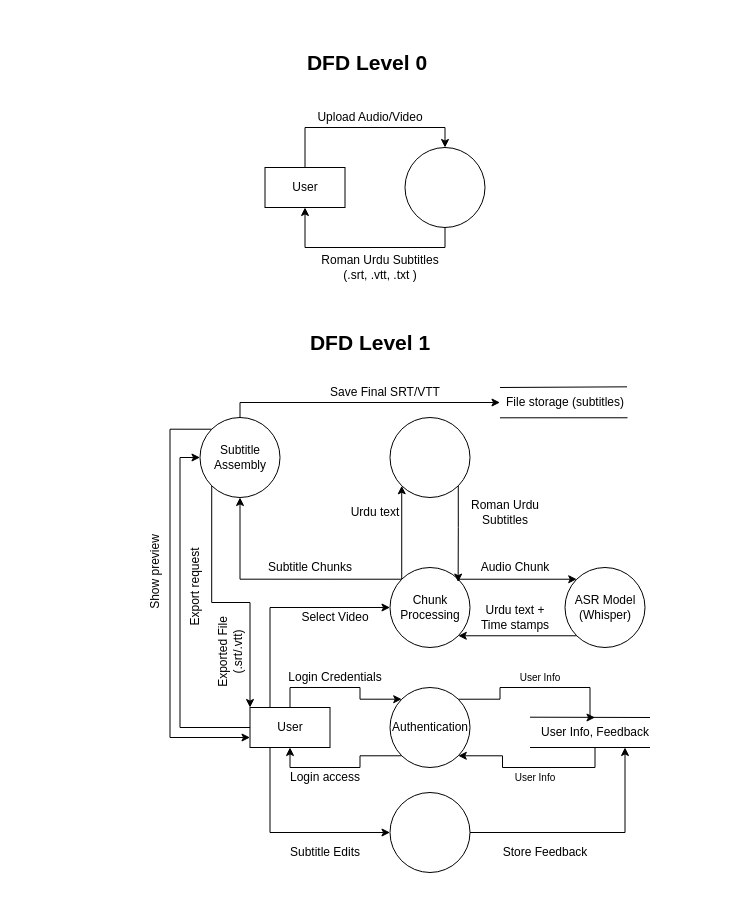
The diagram is 755 pixels wide and 915 high, and some of its shapes have lost their labels. Each missing label, with the centre of its shape:
"Feedback Manager" belongs at (429,832).
"RomaSub.Ai System" belongs at (444,187).
"Transliteration Model (M2M100)" belongs at (429,457).
